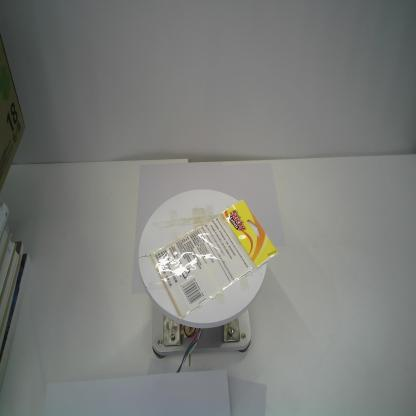Stationery: (148, 196, 280, 320)
